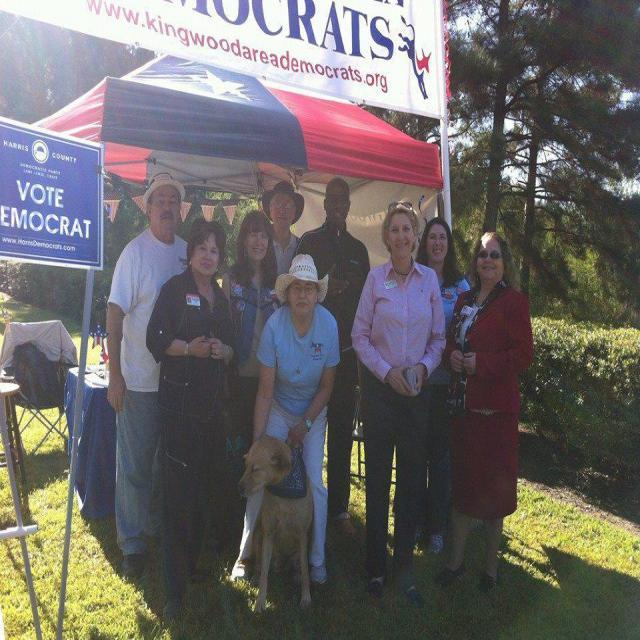person: (350, 202, 454, 600), (146, 216, 246, 600), (104, 180, 195, 578), (241, 261, 342, 606), (445, 228, 538, 588), (224, 213, 280, 384), (415, 218, 472, 316), (318, 181, 366, 275), (268, 184, 306, 274)
